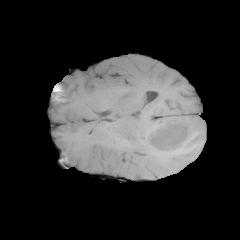glioma: (142, 116, 192, 155)
